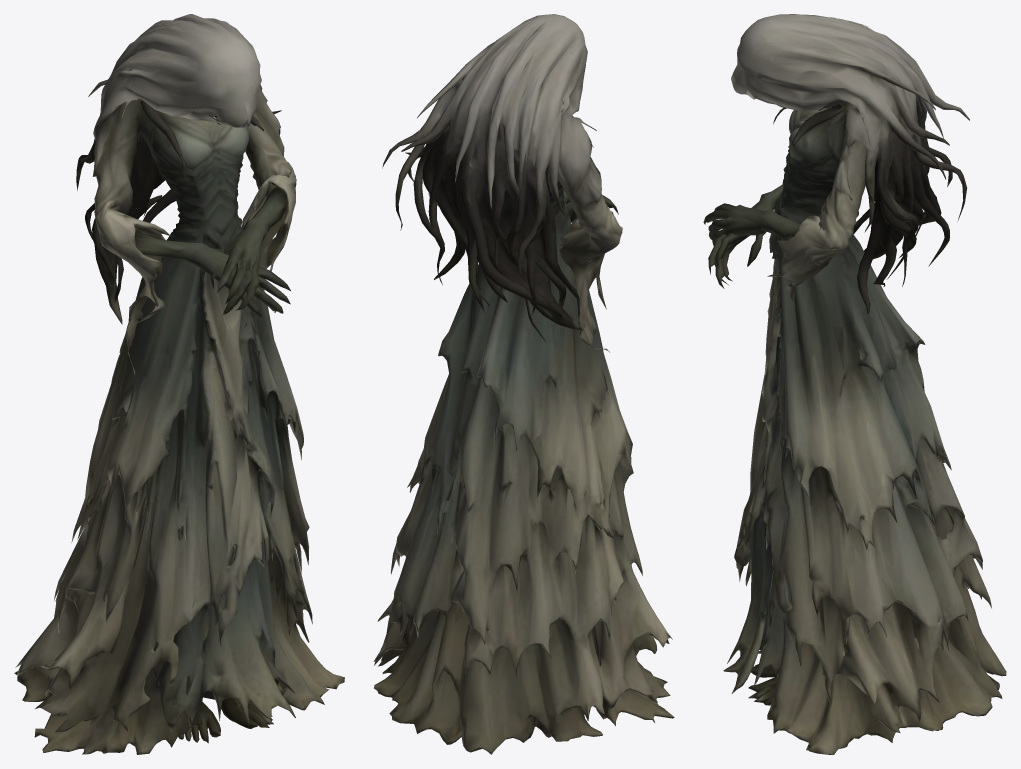
Rendered from llorona_p2.glb.
The picture shows the model from 3 angles, left to right: view 1: azimuth 30°, elevation 25°; view 2: azimuth 150°, elevation 25°; view 3: azimuth 270°, elevation 25°; orthographic projection. The views are drawn at different scales.
Visible parts, largest first — view 1: llorona; view 2: llorona; view 3: llorona.
Part boxes in pixels (box(x1,y1,x2,y2)): llorona: box(14, 14, 344, 754); llorona: box(373, 14, 674, 754); llorona: box(703, 14, 1006, 754).
Bounding box in the file's own units: 0.6855 × 1.53 × 0.6224.
Materials: 1 (1 with a texture image).
